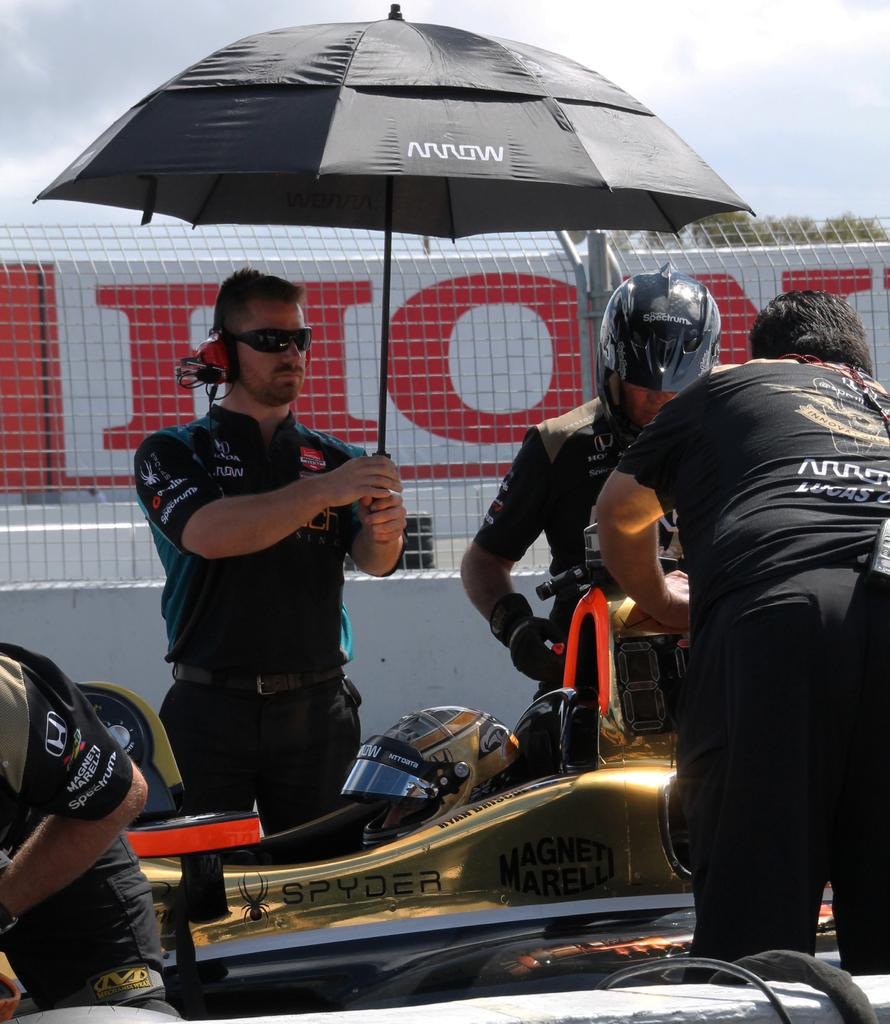helmet: (595, 268, 722, 453)
nohelmet: (213, 271, 312, 420), (749, 289, 874, 384)
